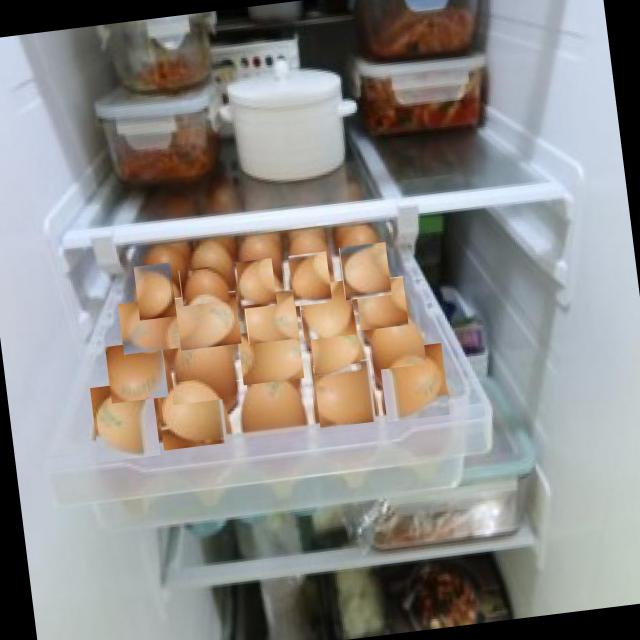eggs: (153, 371, 230, 448), (87, 382, 163, 460), (376, 344, 452, 420), (165, 326, 232, 404), (236, 372, 310, 436), (312, 361, 378, 426), (238, 323, 302, 388), (104, 339, 168, 404), (176, 288, 240, 352), (118, 294, 180, 356), (296, 278, 356, 340), (368, 308, 426, 371), (306, 316, 364, 374), (242, 288, 298, 344), (338, 242, 393, 298), (355, 276, 409, 331), (129, 266, 180, 316), (285, 254, 335, 304), (232, 259, 280, 306), (178, 265, 229, 306)
